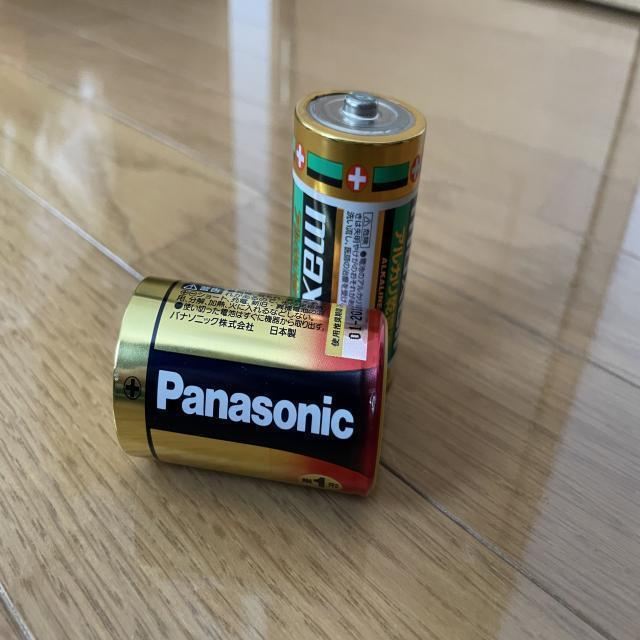Hazard: (110, 270, 395, 503), (285, 82, 428, 406)
